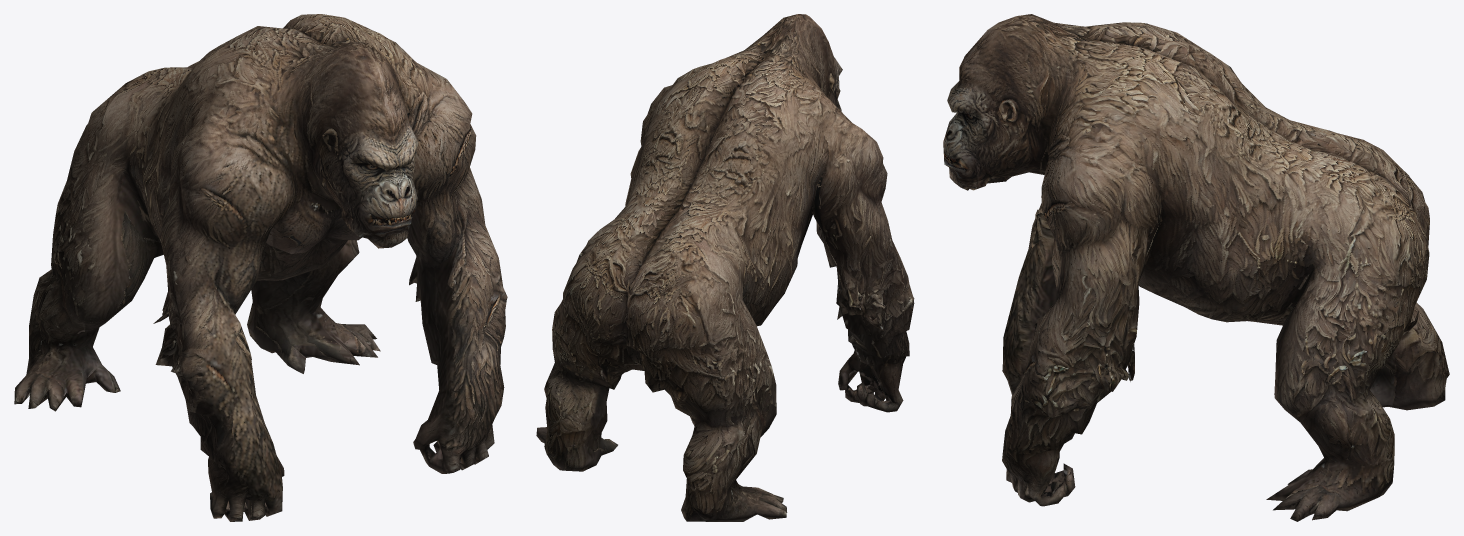
File: ApeKing.glb
3 views of the same model, side by side, from view 1: azimuth 30°, elevation 25°; view 2: azimuth 150°, elevation 25°; view 3: azimuth 270°, elevation 25° (orthographic). The views are drawn at different scales.
Parts seen in each view (by area): view 1: texture_mapping; view 2: texture_mapping; view 3: texture_mapping.
Part boxes in pixels (left/top/right/bottom): texture_mapping: left=14, top=14, right=507, bottom=521; texture_mapping: left=536, top=14, right=914, bottom=521; texture_mapping: left=943, top=14, right=1449, bottom=521.
Bounding box in the file's own units: 0.72 × 0.9285 × 0.9826.
1 material, 1 textured.
